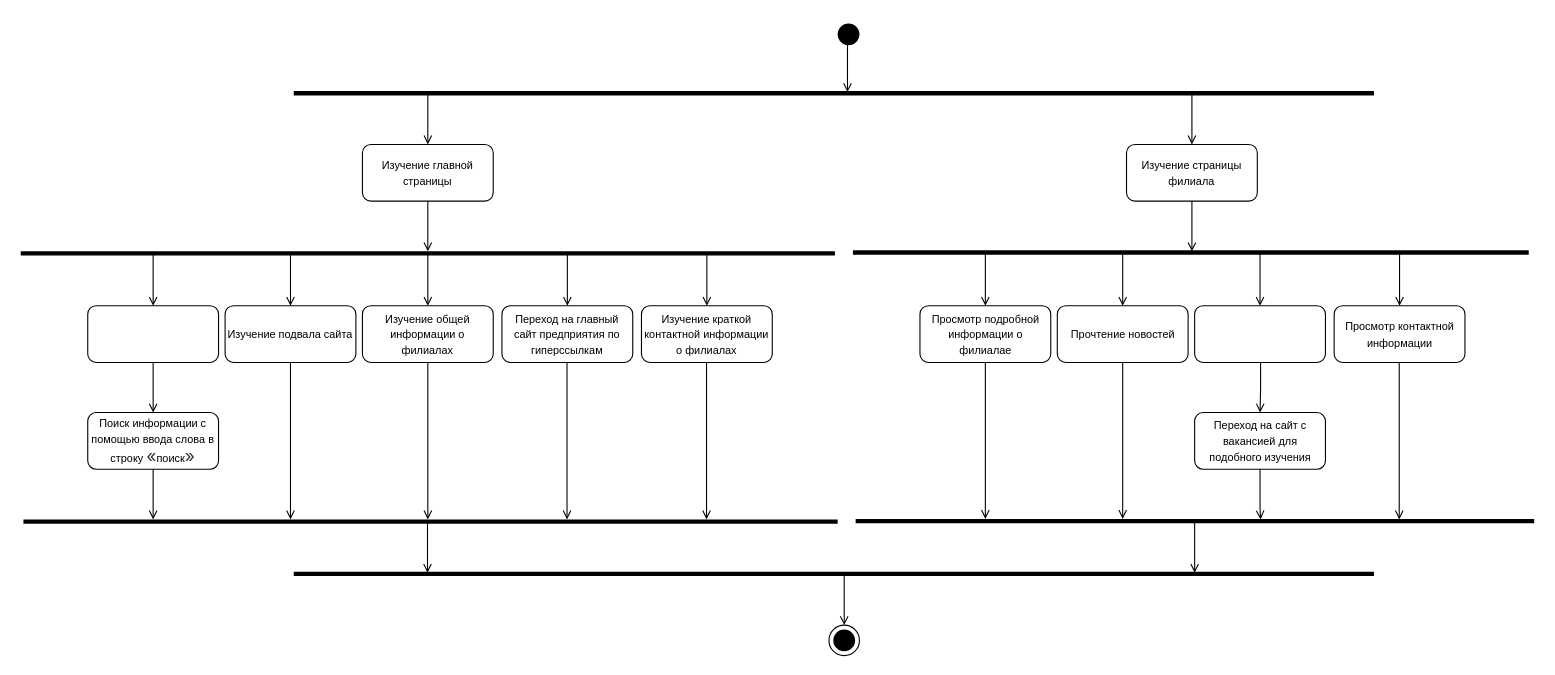
This 1555x675 diagram has some shape labels left out. Each missing label, with the centre of its shape:
Изучение открытых вакансий: (1259,333)
Изучение шапки сайта: (153,333)
